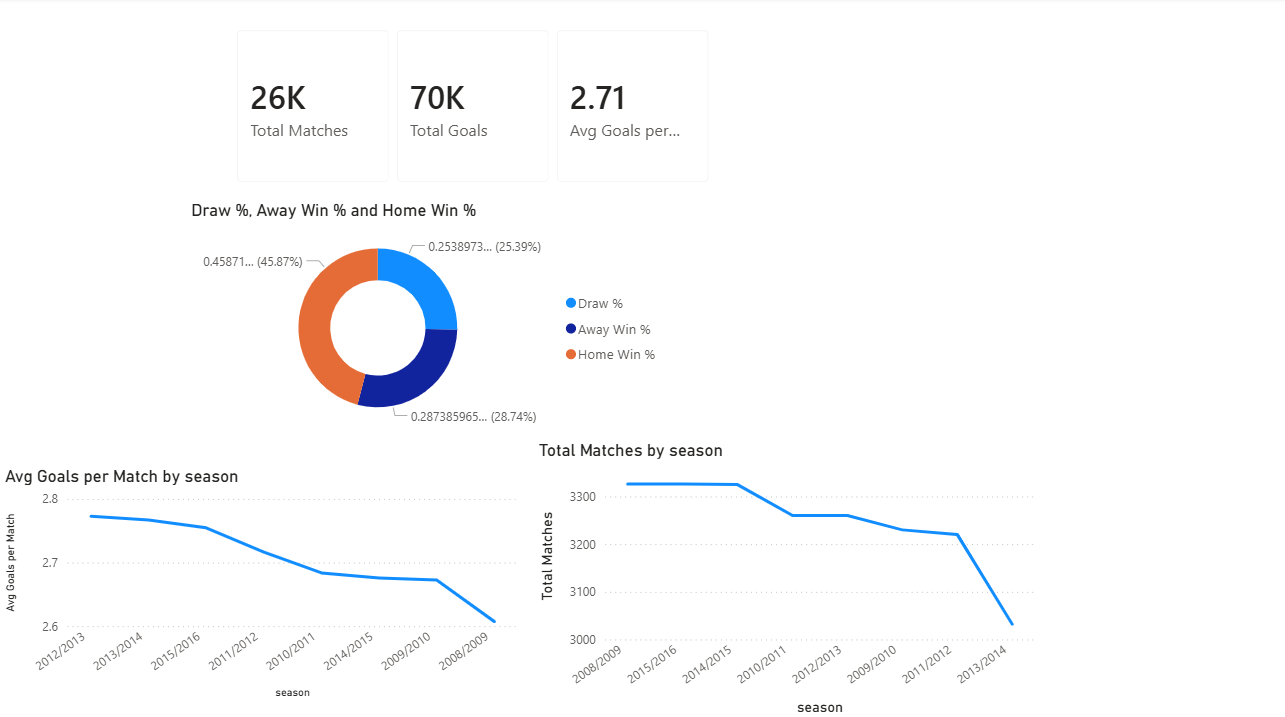

This screenshot's page, from the dashboard's own definition file:
{"tool":"powerbi","page":{"name":"Overview (League Summary)","canvas":[1280,720],"ordinal":0},"visuals":[{"type":"cardVisual","fields":{"Data":["football_matches_cleaned.Total Matches","football_matches_cleaned.Total Goals","football_matches_cleaned.Avg Goals per Match"]},"box":[218.3,16.7,503.3,185],"z":0},{"type":"donutChart","fields":{"Y":["football_matches_cleaned.Draw %","football_matches_cleaned.Away Win %","football_matches_cleaned.Home Win %"]},"box":[185,201.7,481.7,236.7],"z":1},{"type":"lineChart","fields":{"Y":["football_matches_cleaned.Avg Goals per Match"],"Category":["football_matches_cleaned.season"]},"box":[0,466.7,520,236.7],"z":2},{"type":"lineChart","fields":{"Y":["football_matches_cleaned.Total Matches"],"Category":["football_matches_cleaned.season"]},"box":[531.7,440,503.3,280],"z":3}]}

Visuals, with their boxes in screenshot pixels (x1, y1, x2, y2), scaled from the page's 1280x720 canvas onto the 1285x717 screenshot:
cardVisual - football_matches_cleaned.Total Matches x football_matches_cleaned.Total Goals: (left=219, top=17, right=724, bottom=201)
donutChart - football_matches_cleaned.Draw % x football_matches_cleaned.Away Win %: (left=186, top=201, right=669, bottom=437)
lineChart - football_matches_cleaned.Avg Goals per Match x football_matches_cleaned.season: (left=0, top=465, right=522, bottom=700)
lineChart - football_matches_cleaned.Total Matches x football_matches_cleaned.season: (left=534, top=438, right=1039, bottom=716)
